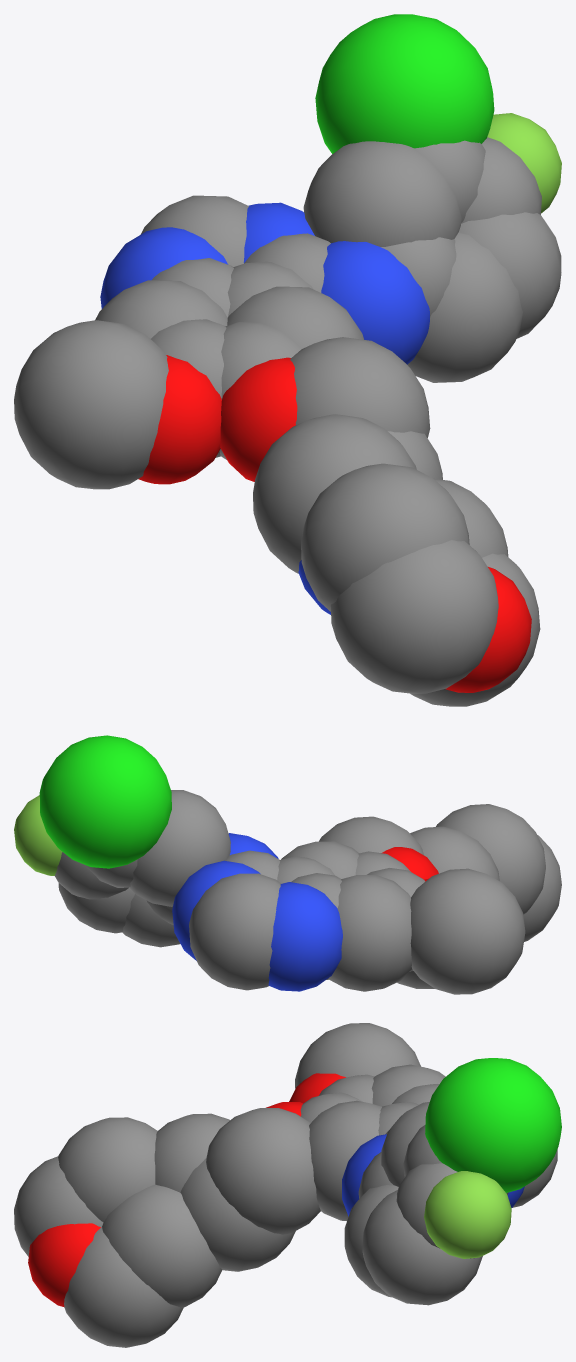
The model's file is gefitinib_2itz.dae.
3 renders of one model, top to bottom at view 1: azimuth 30°, elevation 25°; view 2: azimuth 150°, elevation 25°; view 3: azimuth 270°, elevation 25°, orthographic. The views are drawn at different scales.
Parts seen in each view (by area): view 1: subnode_14, subnode_26, subnode_1, subnode_0, subnode_24, subnode_6, subnode_30, subnode_8, subnode_22, subnode_13, subnode_9, subnode_29 (+18 smaller); view 2: subnode_26, subnode_14, subnode_19, subnode_12, subnode_18, subnode_24, subnode_0, subnode_6, subnode_8, subnode_20, subnode_28, subnode_29 (+13 smaller); view 3: subnode_26, subnode_8, subnode_4, subnode_3, subnode_29, subnode_0, subnode_28, subnode_7, subnode_15, subnode_14, subnode_1, subnode_6 (+14 smaller).
Part boxes in pixels (left/top/right/bottom): subnode_14: left=14, top=320, right=168, bottom=489; subnode_26: left=315, top=14, right=494, bottom=153; subnode_1: left=330, top=540, right=498, bottom=693; subnode_0: left=301, top=463, right=469, bottom=611; subnode_24: left=303, top=141, right=461, bottom=246; subnode_6: left=253, top=414, right=416, bottom=573; subnode_30: left=407, top=232, right=522, bottom=382; subnode_8: left=290, top=337, right=430, bottom=437; subnode_22: left=321, top=241, right=429, bottom=364; subnode_13: left=138, top=355, right=221, bottom=484; subnode_9: left=220, top=357, right=297, bottom=481; subnode_29: left=459, top=212, right=561, bottom=338; subnode_26: left=39, top=735, right=171, bottom=868; subnode_14: left=410, top=868, right=525, bottom=994; subnode_19: left=189, top=873, right=280, bottom=990; subnode_12: left=328, top=874, right=411, bottom=991; subnode_18: left=268, top=882, right=342, bottom=991; subnode_24: left=129, top=790, right=230, bottom=906; subnode_0: left=436, top=804, right=545, bottom=914; subnode_6: left=410, top=826, right=499, bottom=880; subnode_8: left=319, top=816, right=424, bottom=855; subnode_20: left=172, top=860, right=260, bottom=960; subnode_28: left=14, top=795, right=62, bottom=875; subnode_29: left=58, top=883, right=134, bottom=933; subnode_26: left=425, top=1058, right=561, bottom=1192; subnode_8: left=206, top=1108, right=320, bottom=1234; subnode_4: left=102, top=1184, right=222, bottom=1307; subnode_3: left=64, top=1227, right=183, bottom=1347; subnode_29: left=362, top=1190, right=482, bottom=1305; subnode_0: left=58, top=1117, right=157, bottom=1222; subnode_28: left=424, top=1171, right=511, bottom=1258; subnode_7: left=180, top=1158, right=295, bottom=1271; subnode_15: left=309, top=1100, right=381, bottom=1221; subnode_14: left=295, top=1023, right=420, bottom=1088; subnode_1: left=14, top=1156, right=103, bottom=1256; subnode_6: left=154, top=1113, right=230, bottom=1192.
Size of the model in its own units: 15.25 by 11.06 by 15.73.
